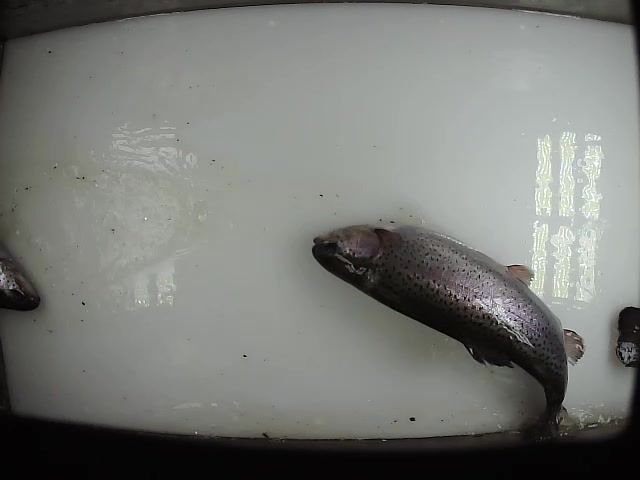fish: (309, 223, 588, 447), (1, 245, 42, 315)
